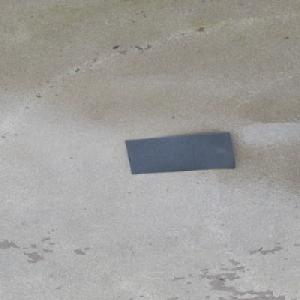PaintChip: (124, 131, 234, 174)
